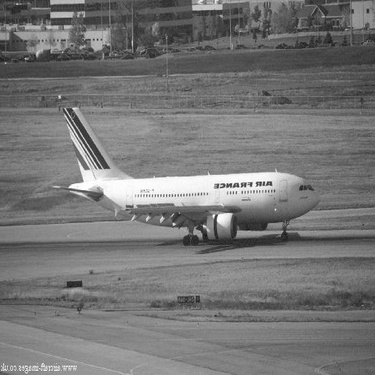airplane: (40, 73, 327, 253)
